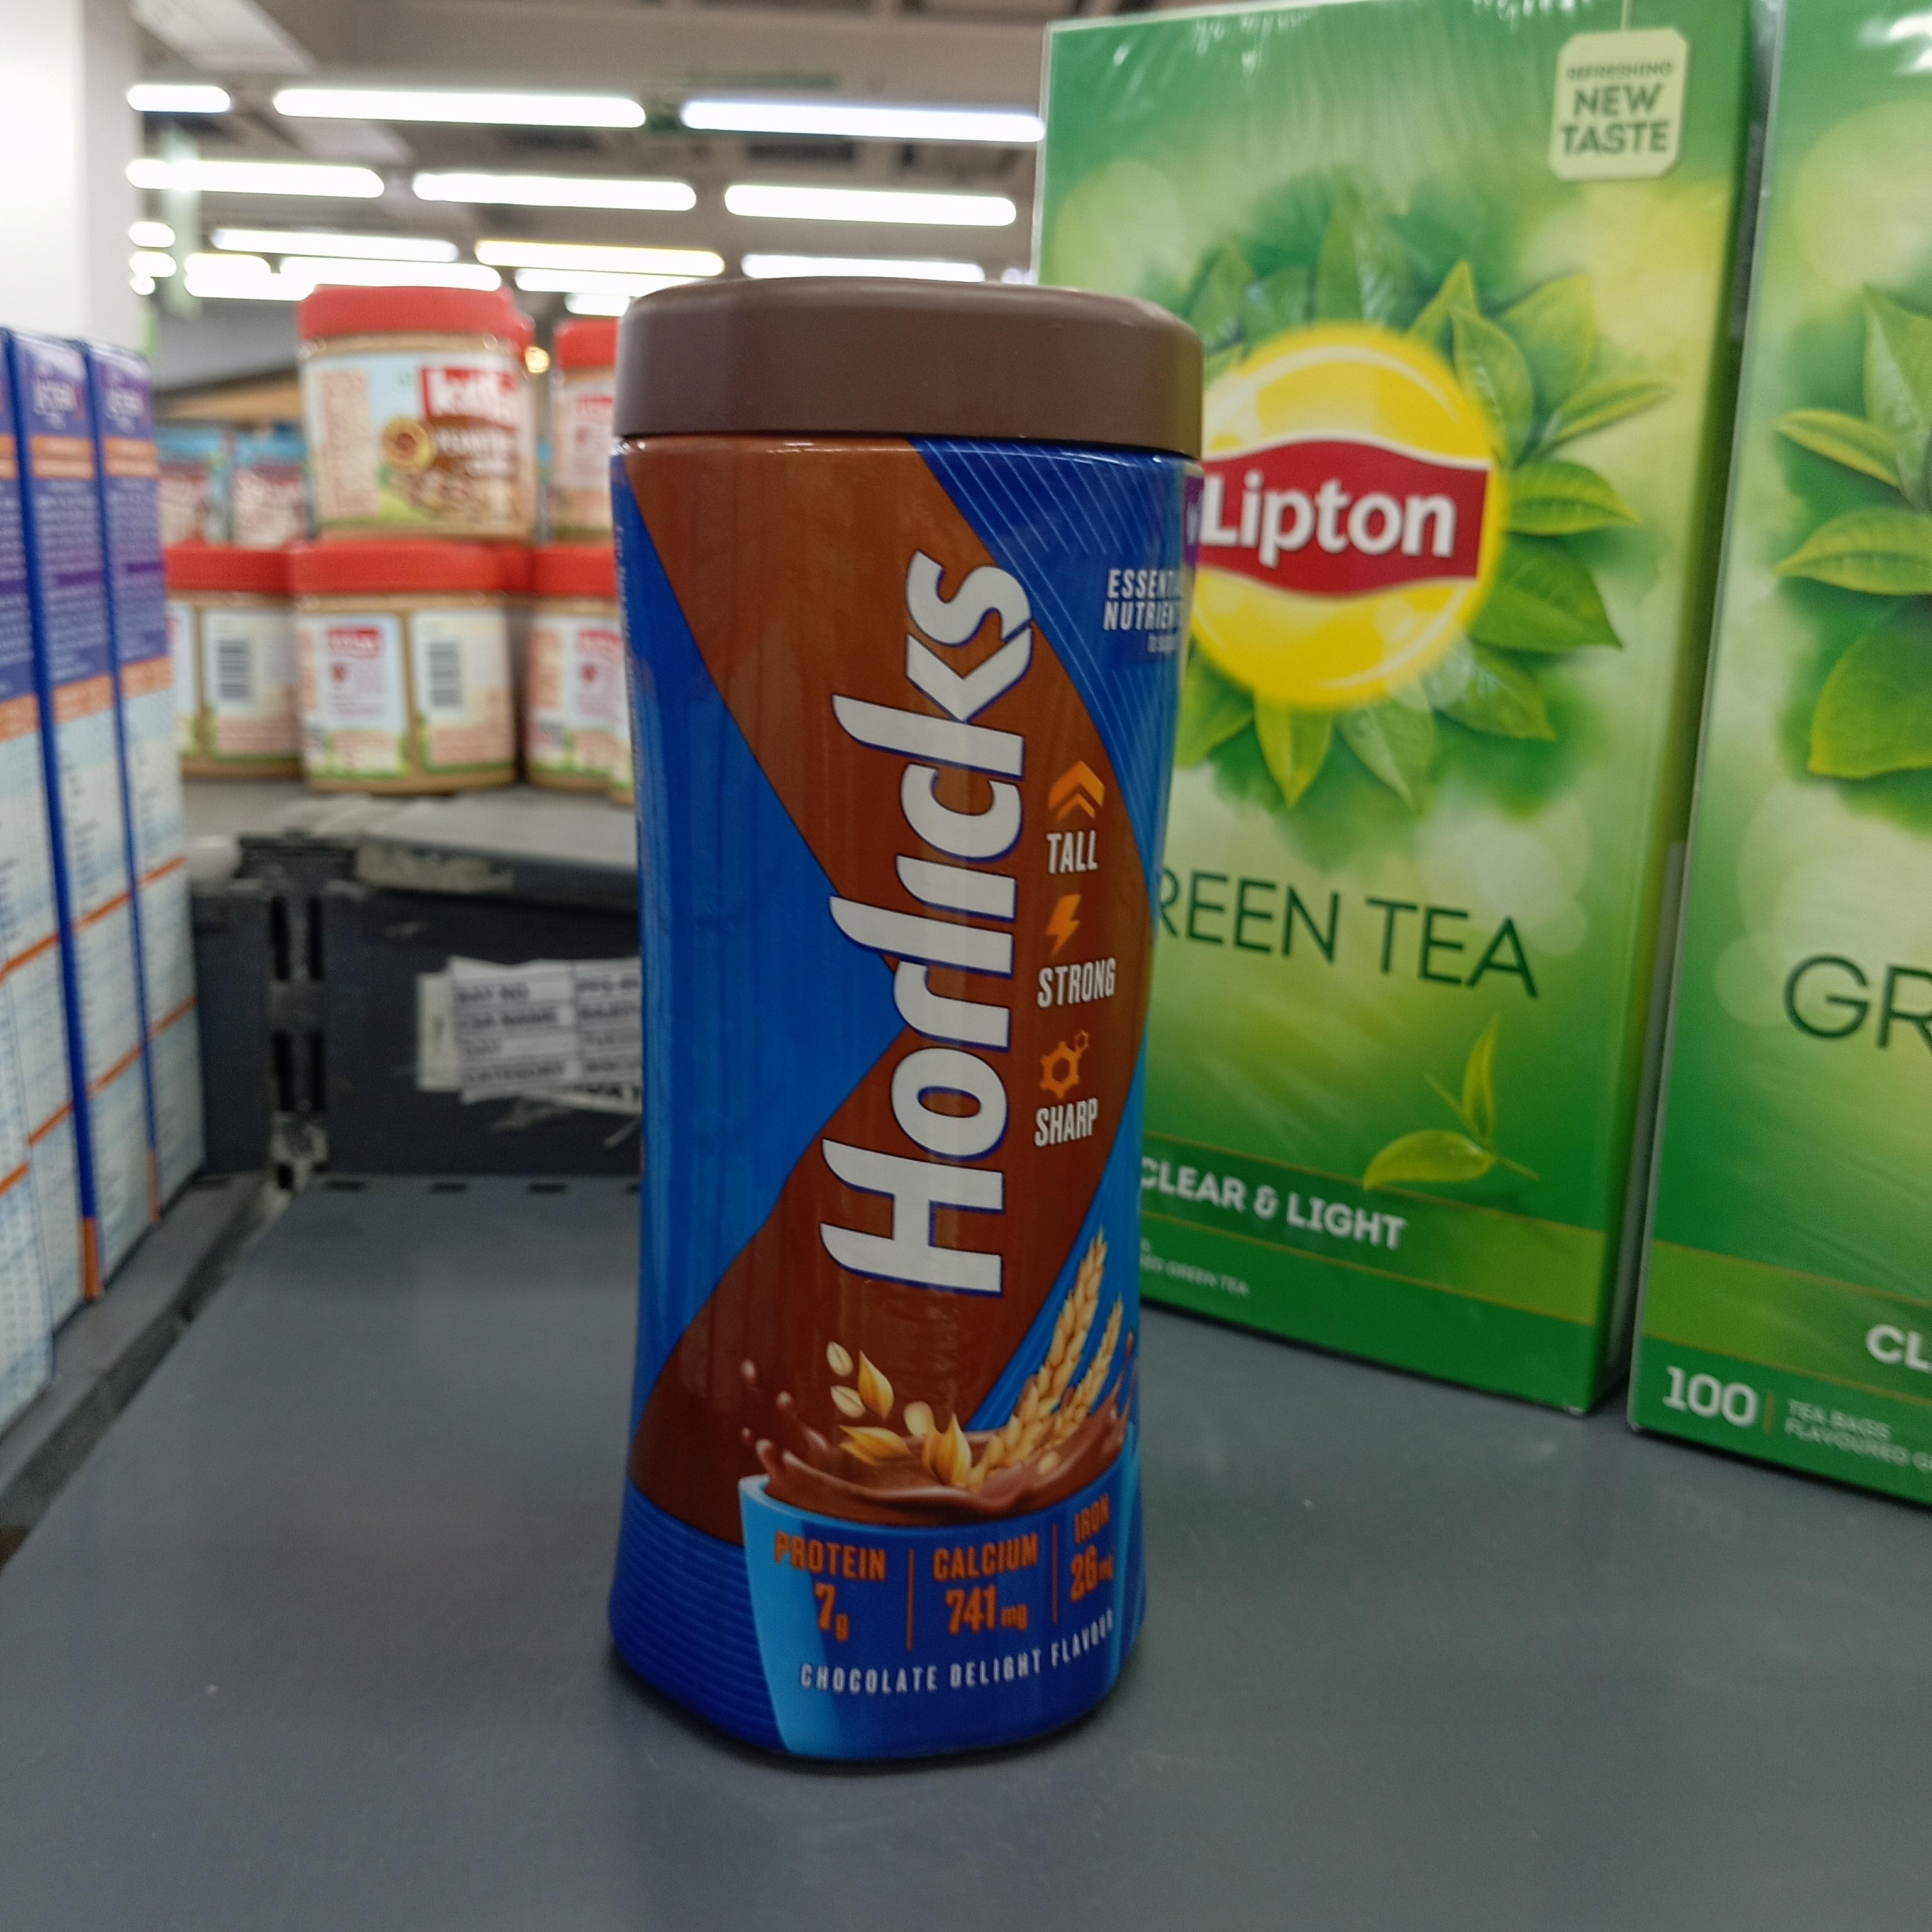HORLICK_CHOCOLATE_500_G_JAR: (623, 251, 1152, 1766)
